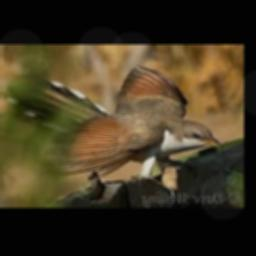Cuckoo: (8, 65, 223, 178)
